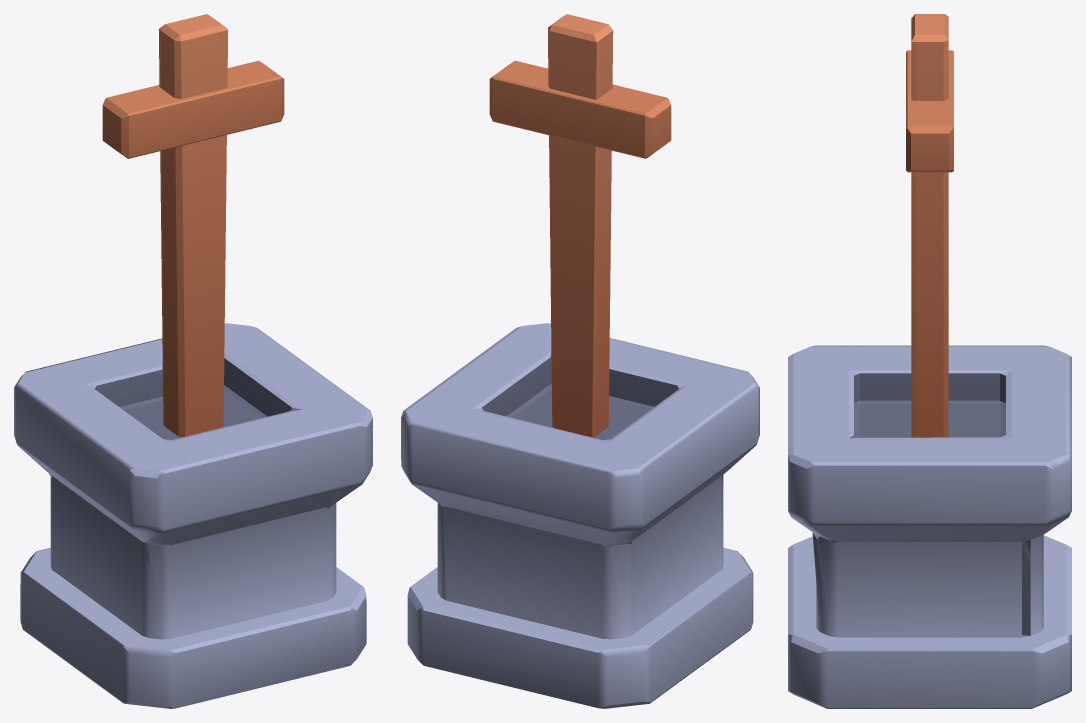
The model's file is kenney-graveyard__cross-wood.glb.
The picture shows the model from 3 angles, left to right: view 1: azimuth 30°, elevation 25°; view 2: azimuth 150°, elevation 25°; view 3: azimuth 270°, elevation 25°; orthographic projection.
Parts seen in each view (by area): view 1: cross-wood; view 2: cross-wood; view 3: cross-wood.
Boxes of the visible parts, x1,y1,x2,y2 form: cross-wood: (14, 14, 372, 708); cross-wood: (401, 14, 759, 708); cross-wood: (788, 14, 1071, 708).
Size of the model in its own units: 0.43 by 1.04 by 0.43.
1 material, 1 textured.
